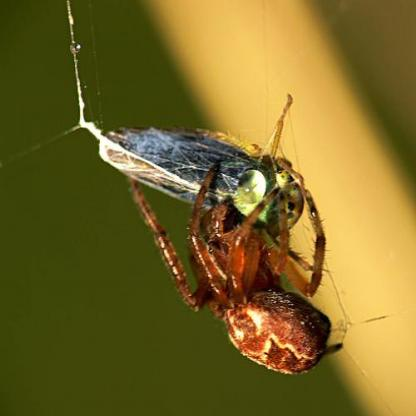Green-Leafhopper: (95, 98, 306, 234)
